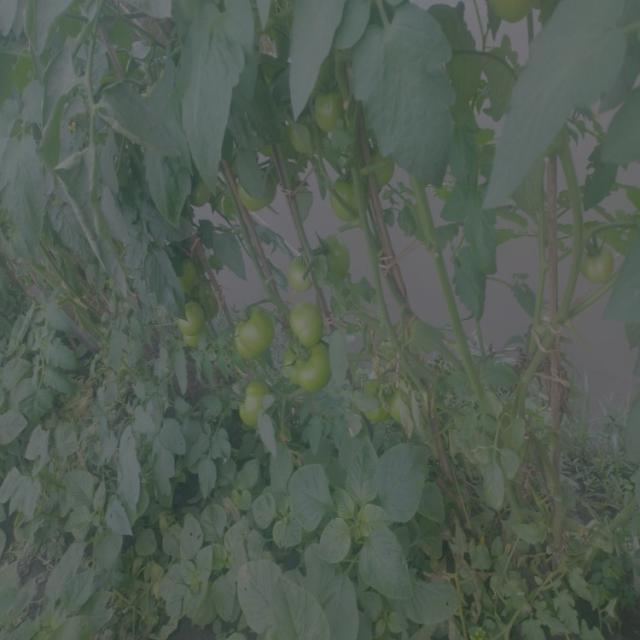tomato: (307, 83, 355, 146), (231, 374, 281, 432), (579, 232, 621, 295), (281, 346, 338, 392), (286, 297, 332, 349), (229, 308, 270, 365), (233, 167, 281, 210), (329, 173, 368, 222), (360, 139, 400, 182), (493, 3, 539, 37), (172, 300, 207, 339), (172, 254, 203, 296)
